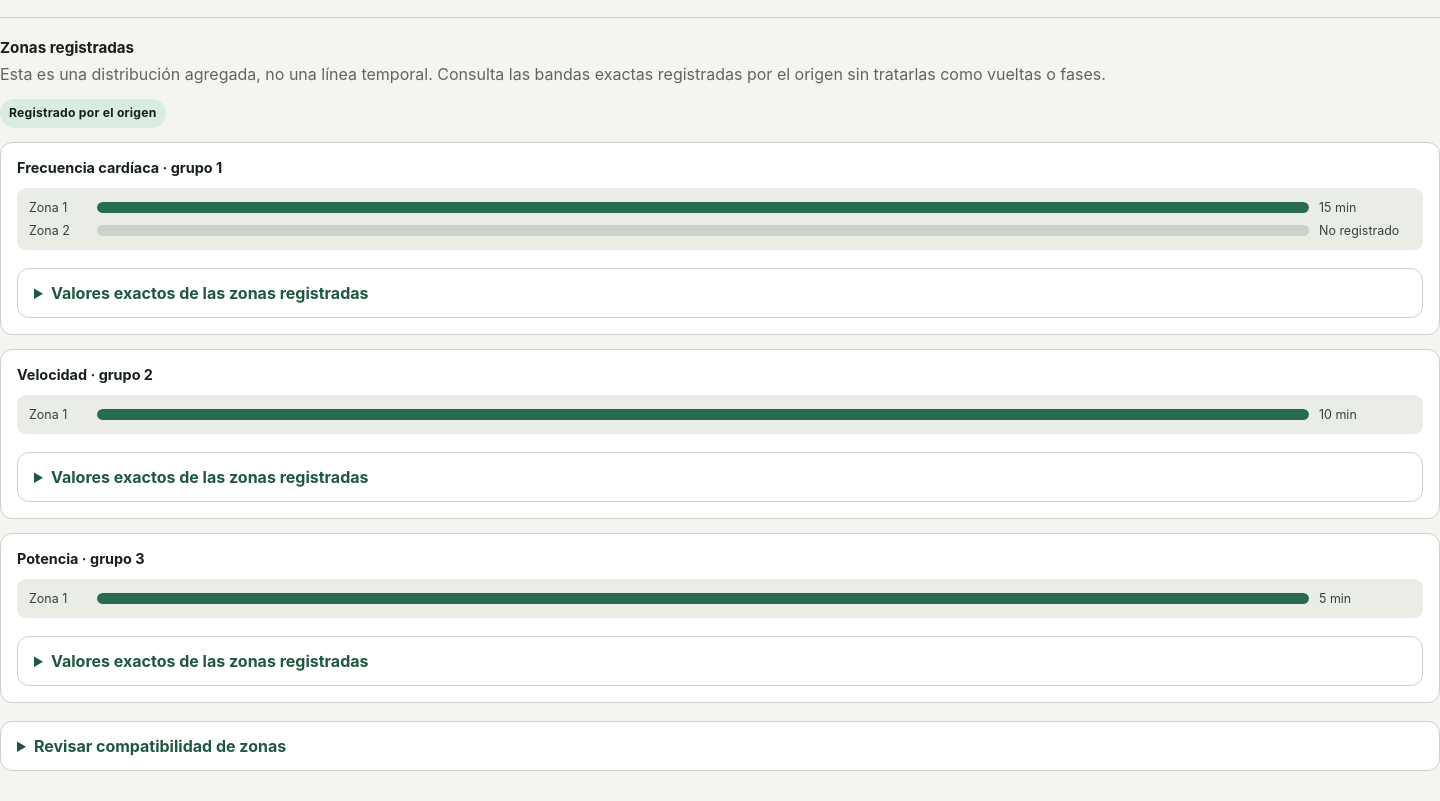
Test: TrainingSessionZonesPanel › localizes labels and exact numeric evidence for Spanish
Expected: the element "Zonas registradas" shows "Registrado por el origen", x1=9 y1=105 x2=157 y2=120
Click the heading "Valores exactos de las zonas registradas" below "10 min" at (210, 477), box x1=51 y1=467 x2=368 y2=487
(page scrolled)
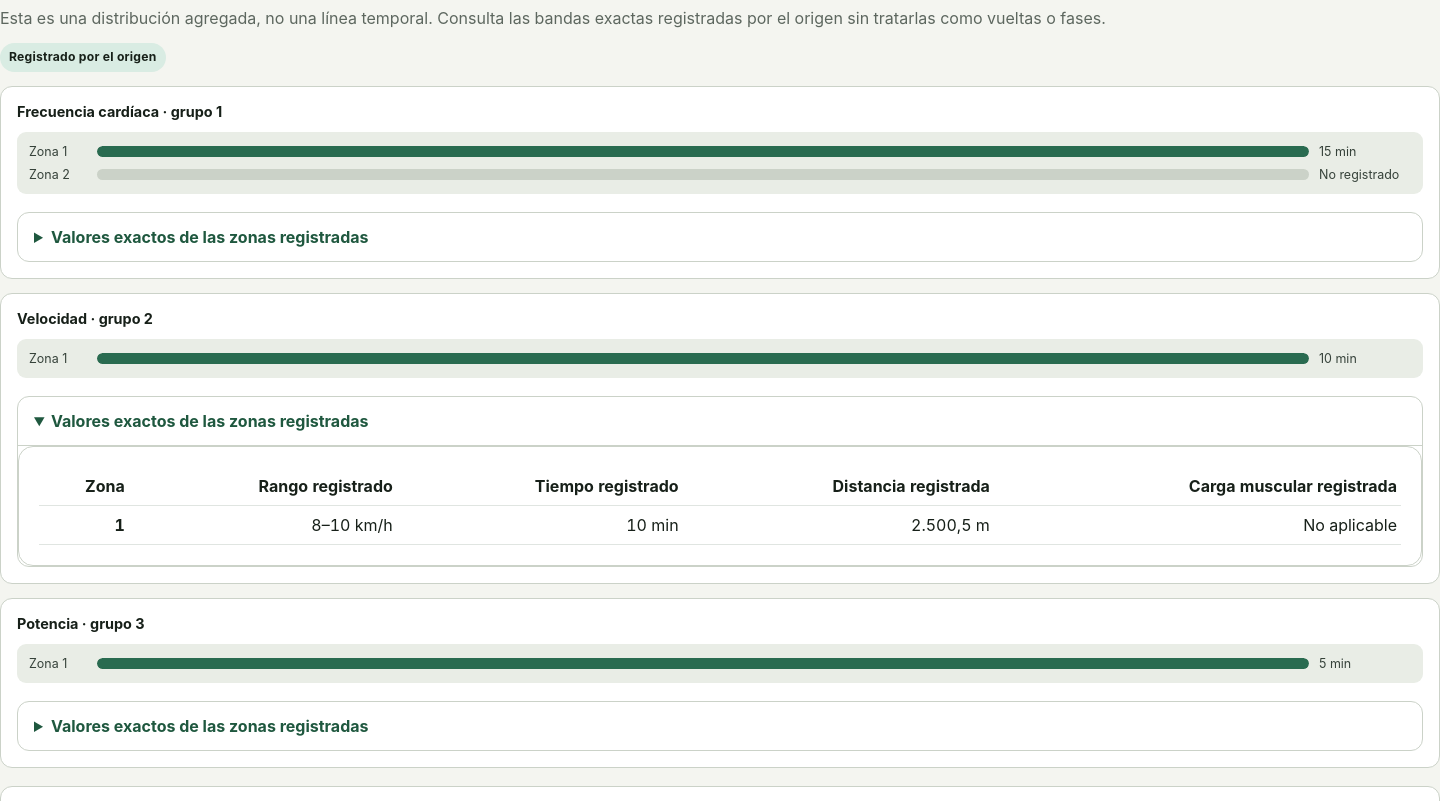
Expected: the element "Zonas registradas" shows "No registrado", x1=1319 y1=167 x2=1399 y2=182
Expected: the element "Zonas registradas" shows "2.500,5 m", x1=911 y1=515 x2=990 y2=535
